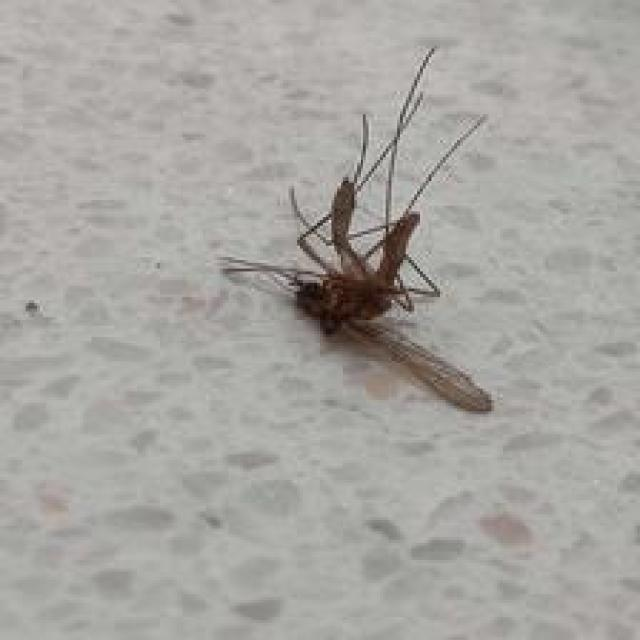Culex: (218, 46, 496, 414)
